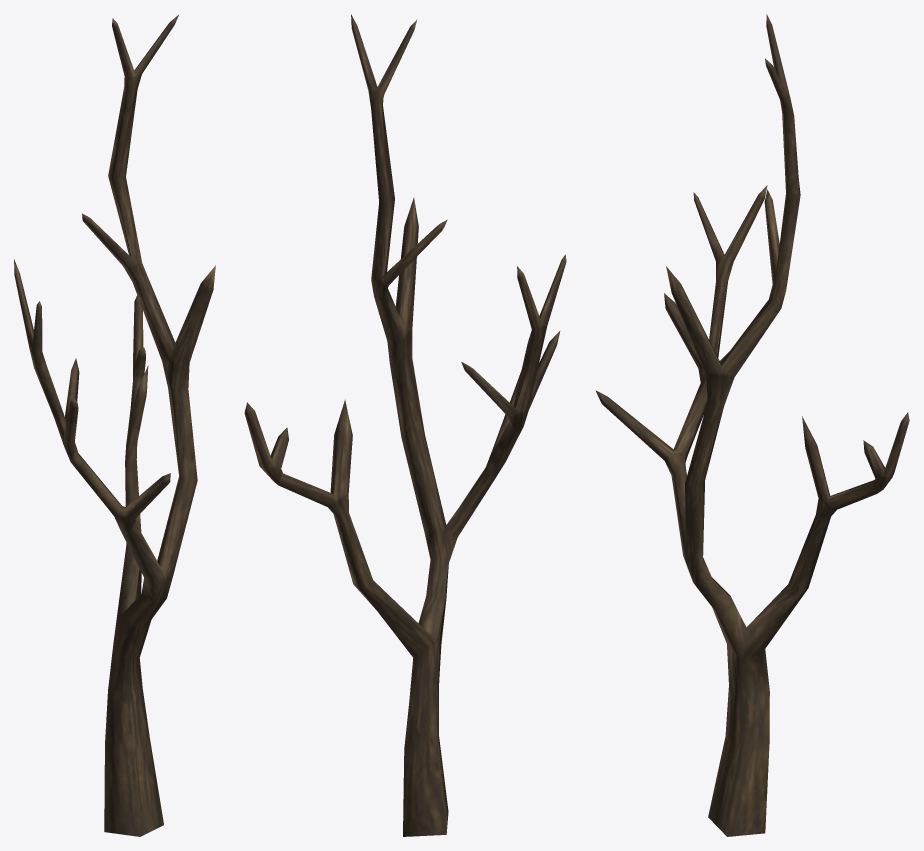
Rendered from Tree_Bare_6.fbx.
The picture shows the model from 3 angles, left to right: view 1: azimuth 30°, elevation 25°; view 2: azimuth 150°, elevation 25°; view 3: azimuth 270°, elevation 25°; orthographic projection. The views are drawn at different scales.
Visible parts, largest first — view 1: Cube.080; view 2: Cube.080; view 3: Cube.080.
Boxes of the visible parts, left/top/right/bottom form: Cube.080: left=14, top=15, right=215, bottom=836; Cube.080: left=244, top=14, right=566, bottom=836; Cube.080: left=595, top=14, right=909, bottom=836.
Bounding box in the file's own units: 204 × 749 × 262.
1 material, 1 textured.
